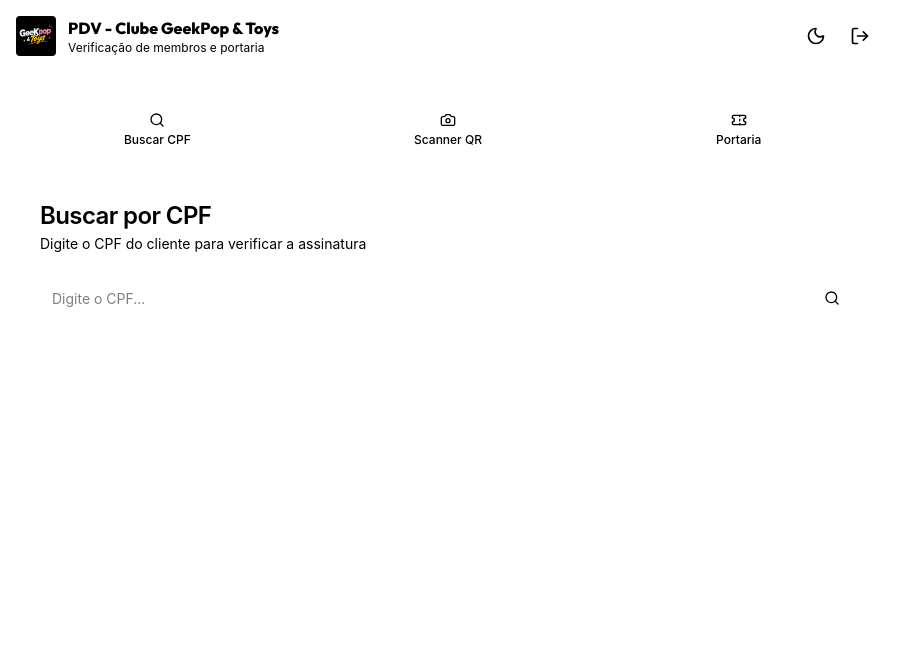
Scenario: PDV › shows not found when CPF does not match
The image size is (897, 663).
Type "99999999999" into the field with placeholder "Digite o CPF..." at [420, 298], box [40,278,800,318]
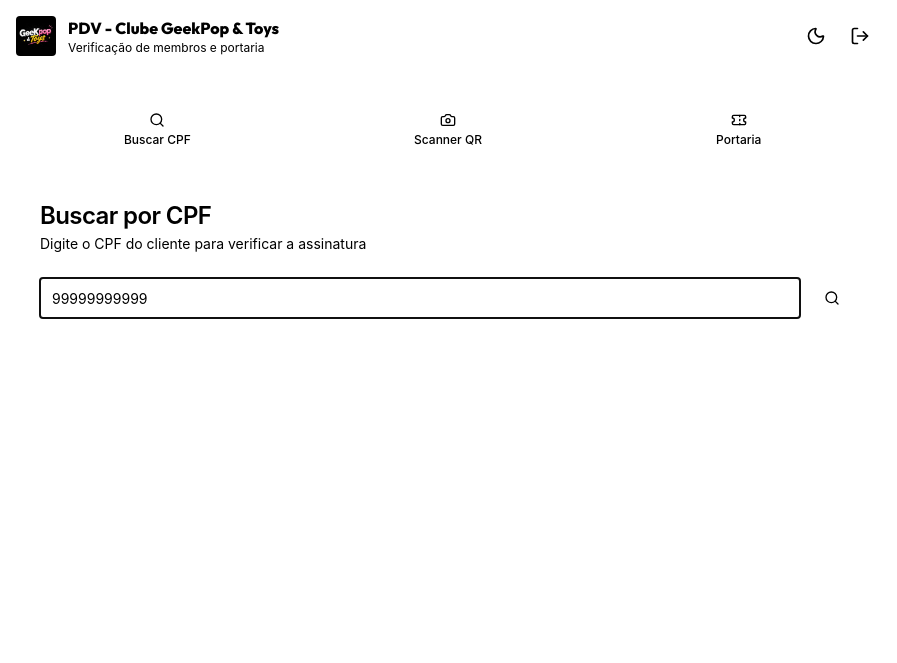
Submit the form with placeholder "Digite o CPF...", box [40,278,856,318]
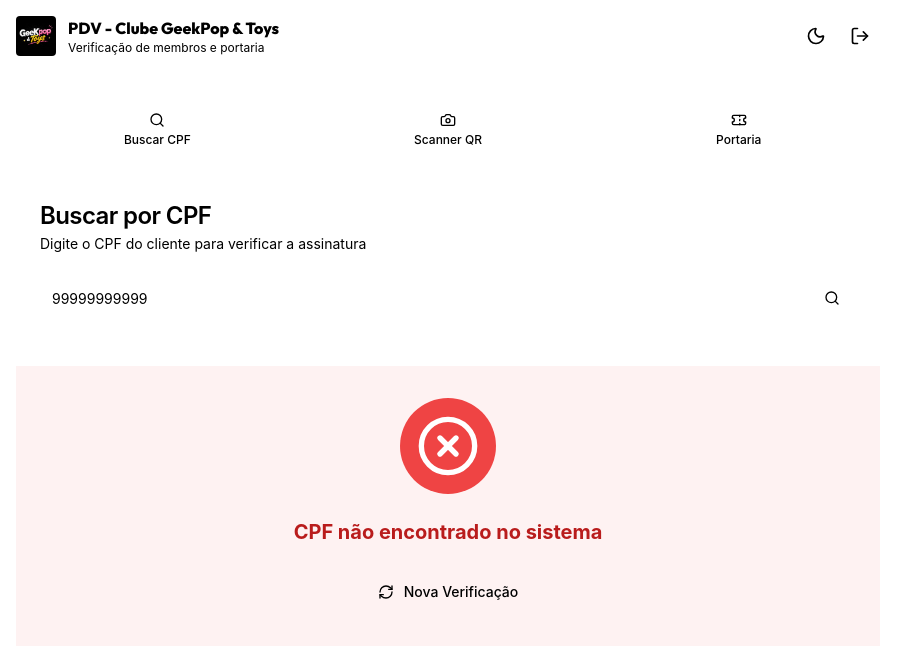
Expected: the text "CPF não encontrado no sistema" is shown, [294,520,602,544]
